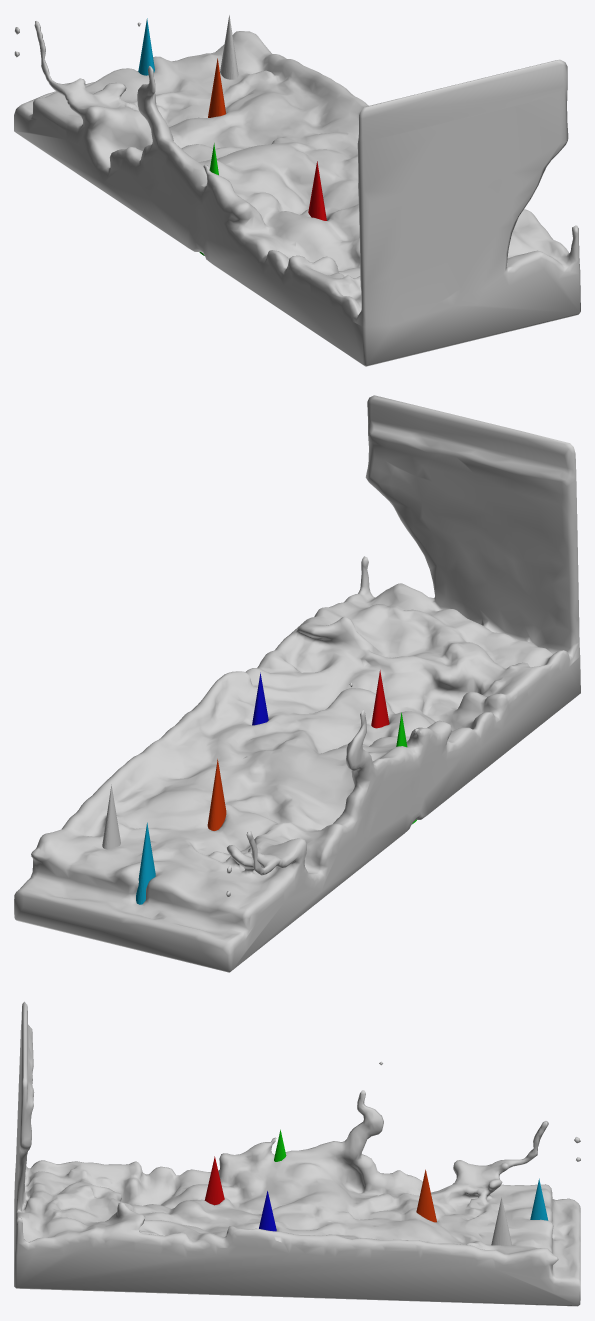
3 views of the same model, one above another, from view 1: azimuth 30°, elevation 25°; view 2: azimuth 150°, elevation 25°; view 3: azimuth 270°, elevation 25° (orthographic). The views are drawn at different scales.
Parts seen in each view (by area): view 1: Liquid_Domain, 円錐, 円錐.001, 円錐.004, 円錐.005; view 2: Liquid_Domain, 円錐.005, 円錐.004; view 3: Liquid_Domain, 円錐.004, 円錐, 円錐.001, 円錐.005, 円錐.002.
Part boxes in pixels (x1,y1,x2,y2): Liquid_Domain: (14, 21, 580, 366); 円錐: (220, 15, 238, 79); 円錐.001: (308, 161, 326, 220); 円錐.004: (208, 58, 225, 117); 円錐.005: (138, 18, 154, 75); Liquid_Domain: (14, 395, 580, 972); 円錐.005: (136, 822, 155, 904); 円錐.004: (207, 759, 226, 830); Liquid_Domain: (14, 1001, 580, 1306); 円錐.004: (416, 1169, 436, 1222); 円錐: (491, 1197, 511, 1245); 円錐.001: (204, 1156, 224, 1205); 円錐.005: (530, 1178, 548, 1220); 円錐.002: (259, 1191, 276, 1231).
Bounding box in the file's own units: 129 × 158 × 361.
